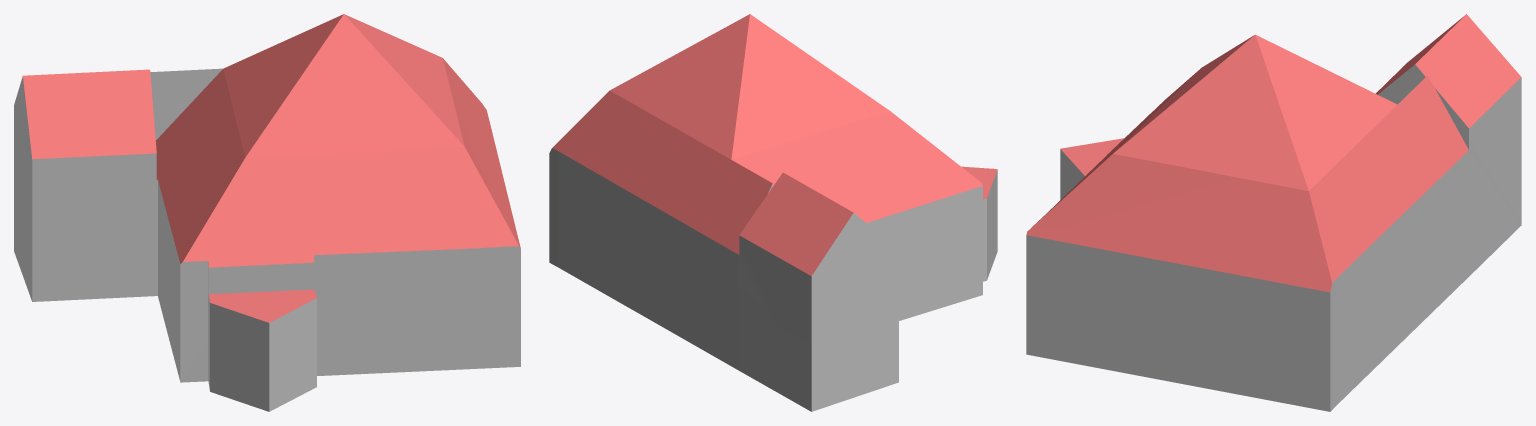
File: DEBY_LOD2_4907187.gltf
The picture shows the model from 3 angles, left to right: view 1: azimuth 30°, elevation 25°; view 2: azimuth 150°, elevation 25°; view 3: azimuth 270°, elevation 25°; orthographic projection. The views are drawn at different scales.
Parts seen in each view (by area): view 1: Z_UP; view 2: Z_UP; view 3: Z_UP.
Part boxes in pixels (bbox=[...]): Z_UP: bbox=[14, 14, 520, 411]; Z_UP: bbox=[549, 14, 997, 411]; Z_UP: bbox=[1026, 14, 1521, 411].
Bounding box in the file's own units: 14.39 × 9.43 × 14.66.
